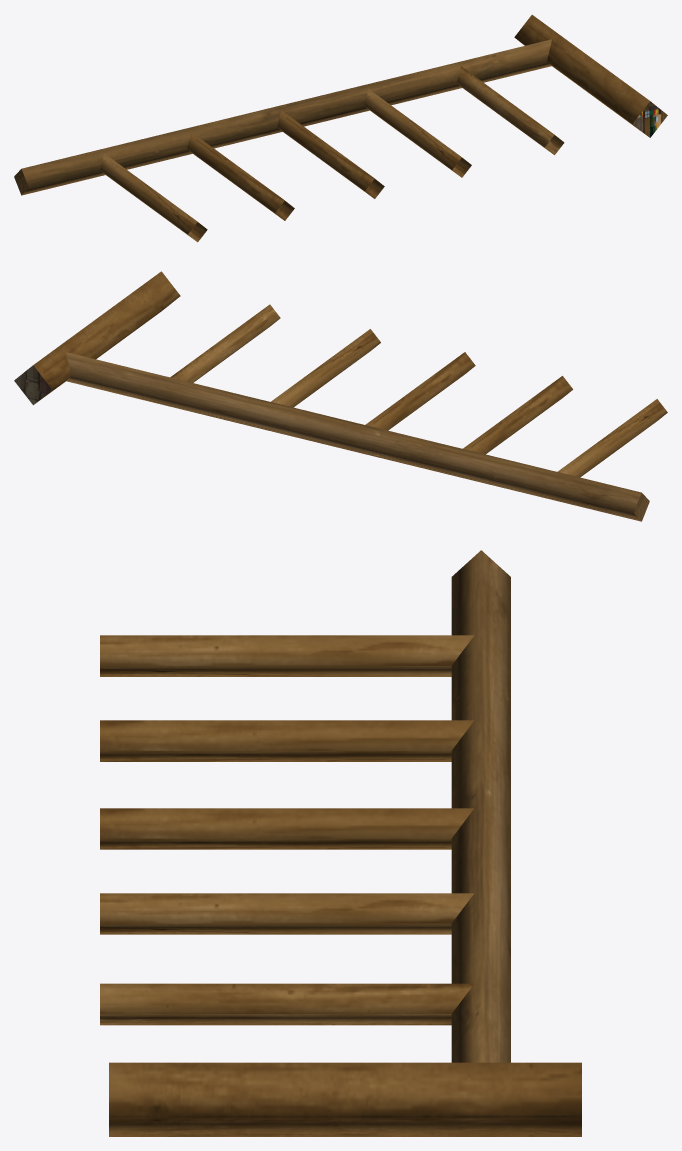
Rendered from Fencex5.fbx.
3 renders of one model, top to bottom at view 1: azimuth 30°, elevation 25°; view 2: azimuth 150°, elevation 25°; view 3: azimuth 270°, elevation 25°, orthographic. The views are drawn at different scales.
Parts seen in each view (by area): view 1: Fencex5; view 2: Fencex5; view 3: Fencex5.
Boxes of the visible parts, <box> form: Fencex5: <box>14,15,667,242</box>; Fencex5: <box>14,271,667,521</box>; Fencex5: <box>100,550,581,1136</box>.
Bounding box in the file's own units: 40.7 × 2.61 × 15.34.
